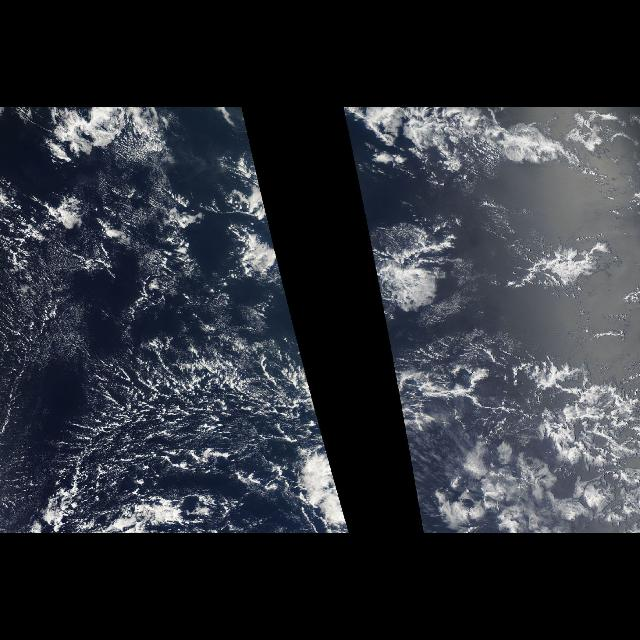Sugar: (5, 155, 274, 478)
